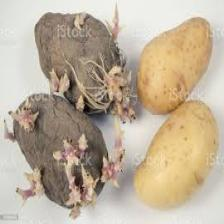Bud: (63, 166, 103, 222), (104, 66, 136, 125), (15, 162, 50, 211), (100, 149, 135, 193), (50, 134, 91, 170), (98, 63, 124, 103), (46, 66, 74, 93), (108, 2, 124, 39), (2, 121, 18, 144), (71, 10, 88, 29), (72, 96, 85, 113), (73, 93, 84, 111)
Sprouted potato: (0, 74, 129, 224), (36, 7, 139, 124)
